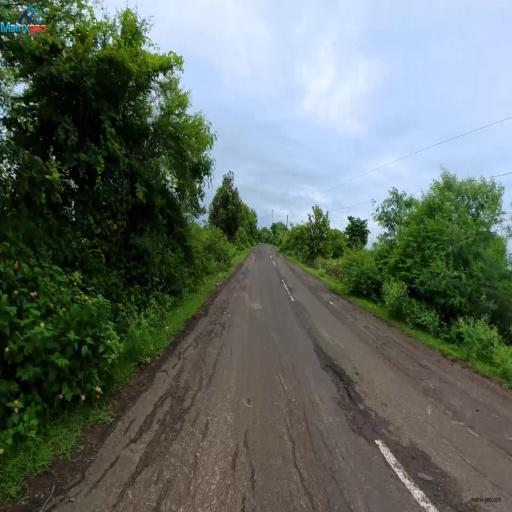longitudinal_crack: (224, 378, 321, 500)
